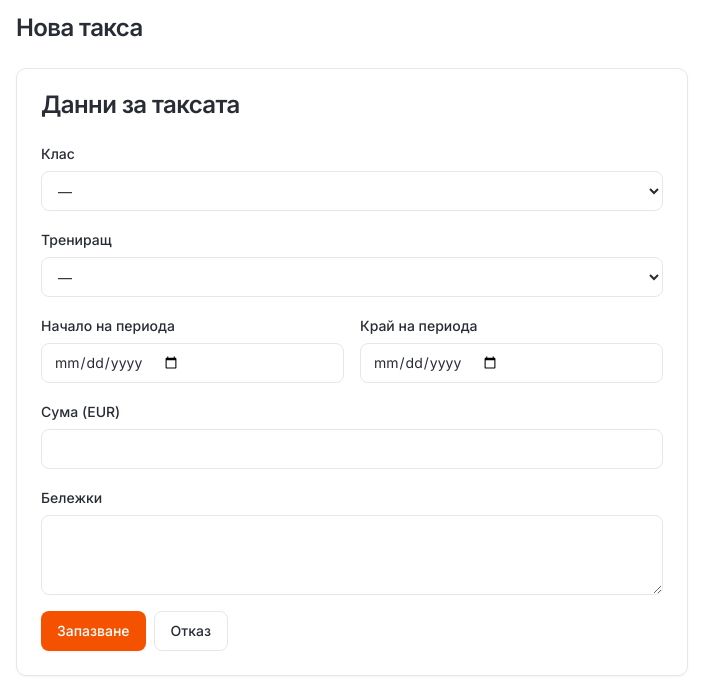
Scenario: NewFeePage — amount › fills the amount from a PER_MONTH class monthlyAmount
Select "Judo monthly" in the dropdown labelled "Клас" at (352, 191), box [41, 171, 663, 211]
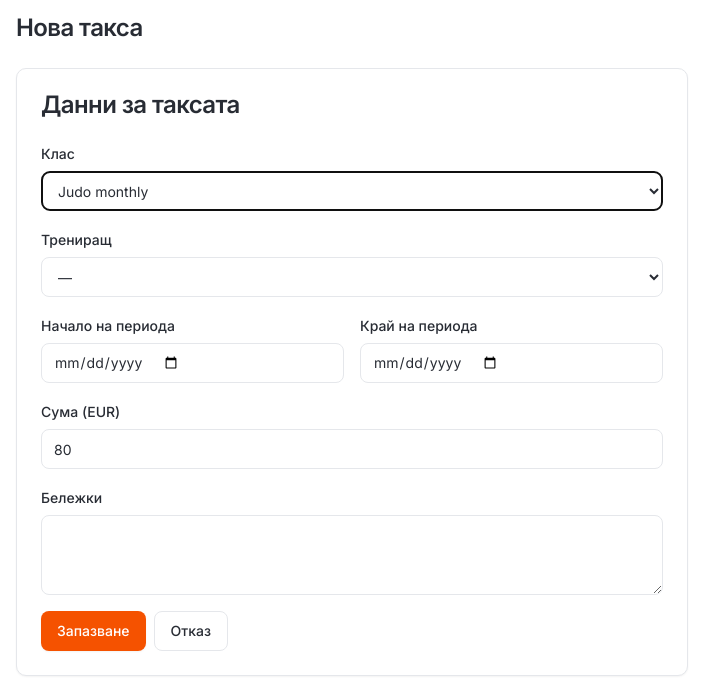
Expected: the number field showing "80" is shown, [41, 429, 663, 469]
